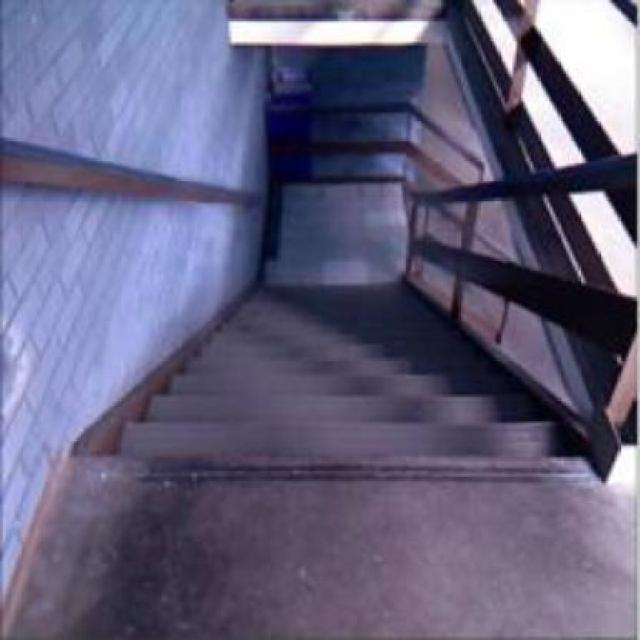stair: (70, 274, 608, 494)
